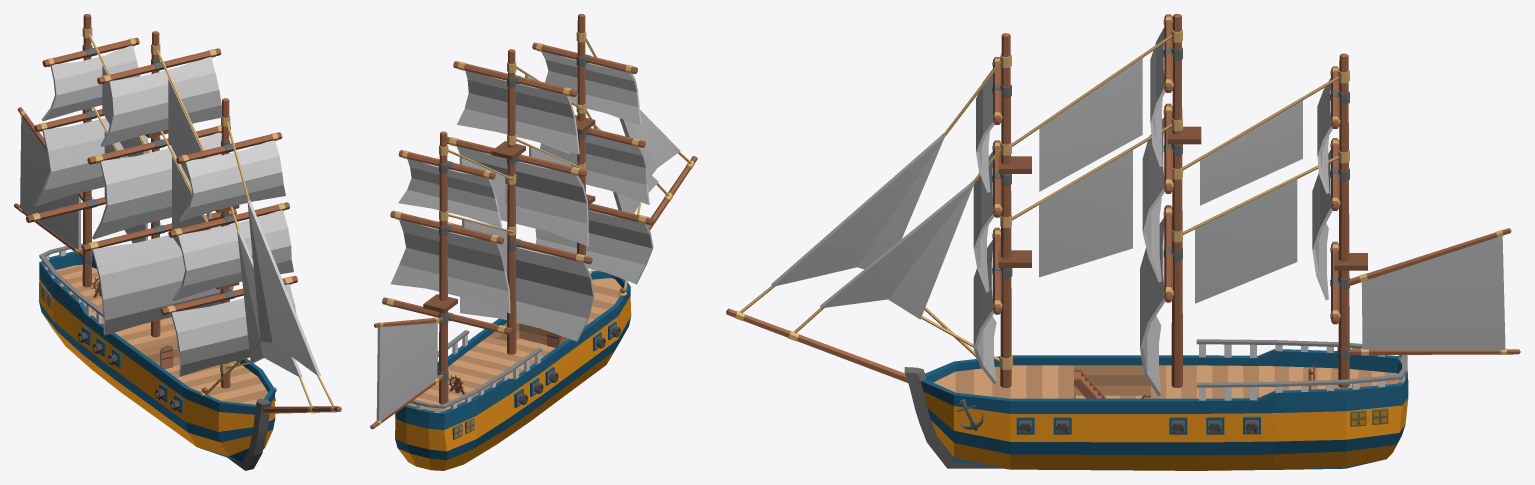
The model's file is ship-large-5.glb.
3 renders of one model, left to right at view 1: azimuth 30°, elevation 25°; view 2: azimuth 150°, elevation 25°; view 3: azimuth 270°, elevation 25°, orthographic. The views are drawn at different scales.
Parts seen in each view (by area): view 1: ship large 5; view 2: ship large 5; view 3: ship large 5.
Boxes of the visible parts, left/top/right/bottom form: ship large 5: left=14, top=14, right=341, bottom=470; ship large 5: left=370, top=14, right=697, bottom=470; ship large 5: left=726, top=14, right=1520, bottom=470.
Size of the model in its own units: 14.48 by 33.37 by 53.13.
1 material, 1 textured.
